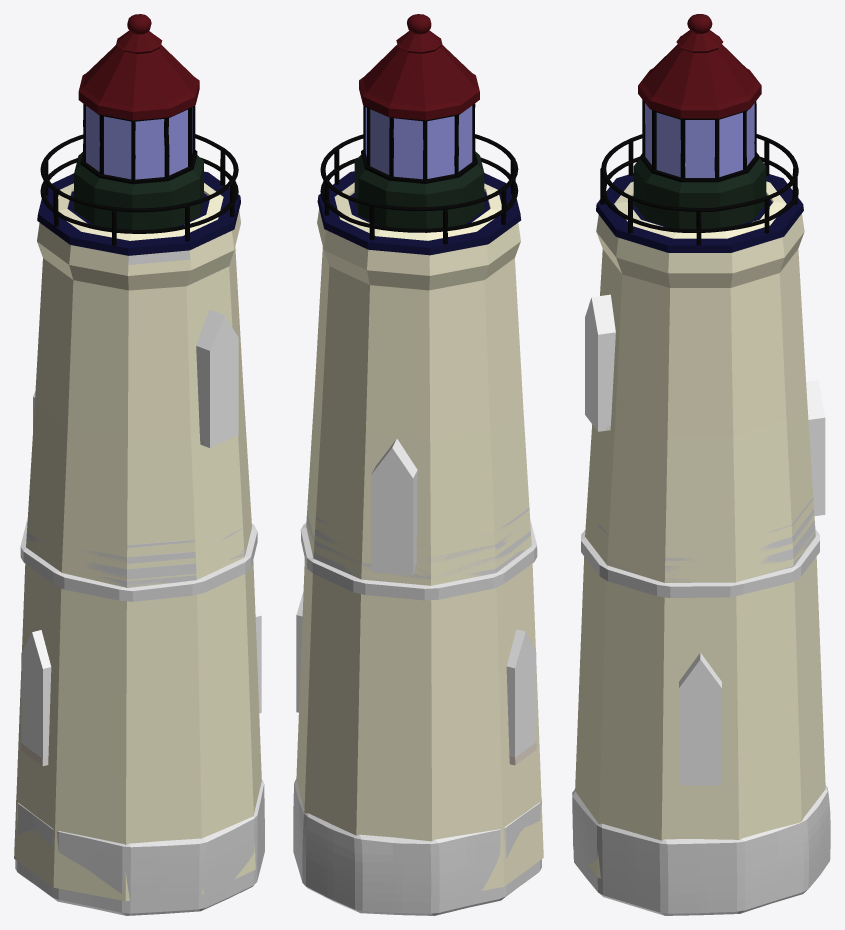
The model's file is Lighthouse22.fbx.
The picture shows the model from 3 angles, left to right: view 1: azimuth 30°, elevation 25°; view 2: azimuth 150°, elevation 25°; view 3: azimuth 270°, elevation 25°; orthographic projection.
Parts seen in each view (by area): view 1: MainBody, Base, Roof, BeaconBase, BeaconGlass, CTRL_Hole.001, _TopFloor, Ring Mid, Railings, CTRL_Hole.003, MainBody.002, BeaconFrame (+3 smaller); view 2: MainBody, Base, Roof, BeaconBase, CTRL_Hole.002, BeaconGlass, _TopFloor, Ring Mid, Railings, CTRL_Hole.003, MainBody.002, BeaconFrame (+2 smaller); view 3: MainBody, Base, Roof, BeaconBase, BeaconGlass, CTRL_Hole, _TopFloor, Ring Mid, Railings, CTRL_Hole.001, BeaconFrame, CTRL_Hole.002 (+2 smaller).
Boxes of the visible parts, box(x1,y1,x2,y2) form: MainBody: box(14, 183, 261, 901); Base: box(15, 779, 264, 915); Roof: box(78, 45, 199, 120); BeaconBase: box(74, 152, 203, 229); BeaconGlass: box(86, 106, 192, 179); CTRL_Hole.001: box(196, 309, 238, 447); _TopFloor: box(37, 171, 240, 255); Ring Mid: box(20, 520, 257, 601); Railings: box(40, 134, 238, 246); CTRL_Hole.003: box(21, 630, 51, 766); MainBody.002: box(26, 520, 244, 587); BeaconFrame: box(80, 104, 197, 184); MainBody: box(296, 182, 543, 890); Base: box(293, 779, 541, 915); Roof: box(359, 45, 479, 120); BeaconBase: box(354, 151, 484, 228); CTRL_Hole.002: box(371, 439, 417, 575); BeaconGlass: box(365, 106, 472, 179); _TopFloor: box(317, 171, 521, 255); Ring Mid: box(300, 521, 537, 600); Railings: box(320, 134, 518, 244); CTRL_Hole.003: box(506, 629, 536, 764); MainBody.002: box(306, 507, 530, 582); BeaconFrame: box(361, 103, 477, 183); MainBody: box(573, 181, 825, 878); Base: box(572, 785, 830, 915); Roof: box(638, 44, 761, 118); BeaconBase: box(633, 158, 766, 228); BeaconGlass: box(645, 103, 754, 177); CTRL_Hole: box(679, 652, 721, 785); _TopFloor: box(596, 173, 803, 252); Ring Mid: box(581, 529, 819, 597); Railings: box(600, 134, 798, 245); CTRL_Hole.001: box(585, 294, 615, 431); BeaconFrame: box(640, 100, 759, 182); CTRL_Hole.002: box(806, 380, 825, 515).
Bounding box in the file's own units: 601 × 2232 × 615.
